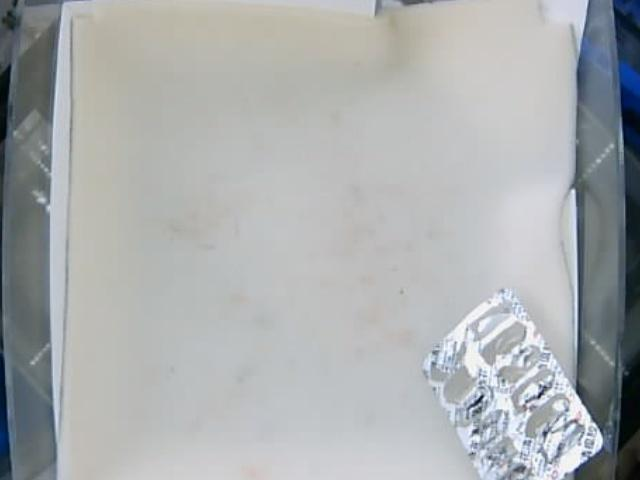Medicine: (421, 289, 605, 480)
